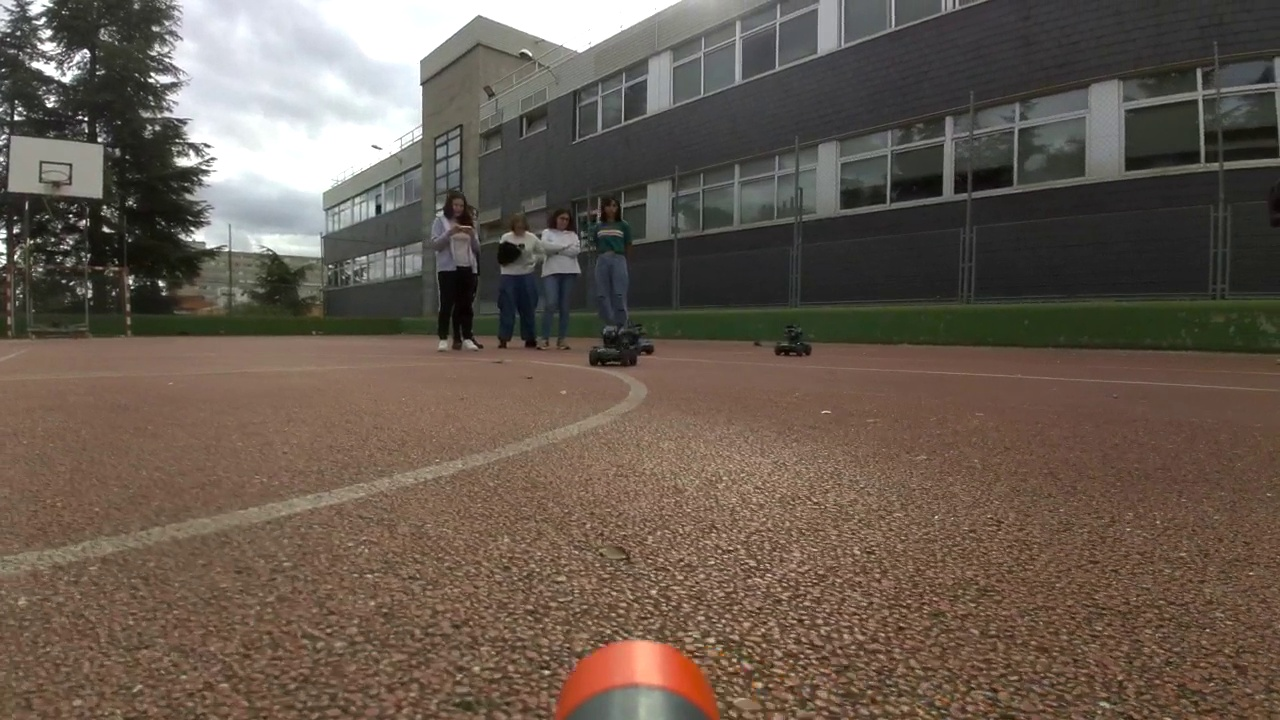robot: (589, 327, 638, 367), (774, 325, 810, 355)
